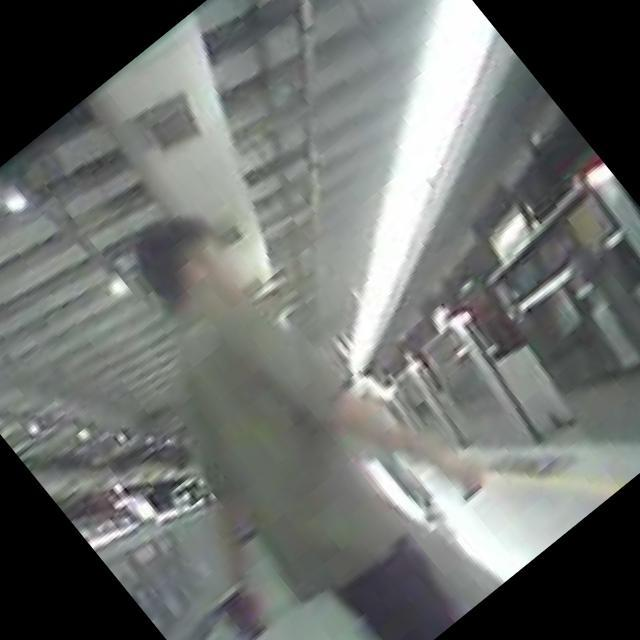person: (24, 169, 530, 640)
